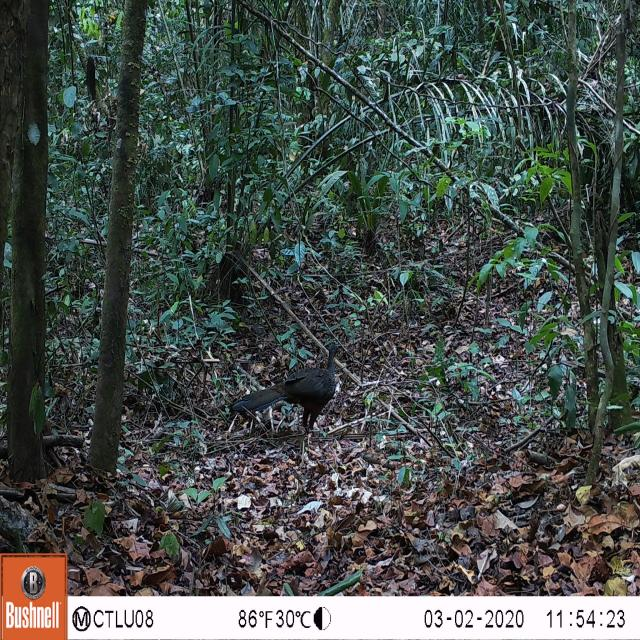Spixs Guan: (225, 334, 349, 446)
